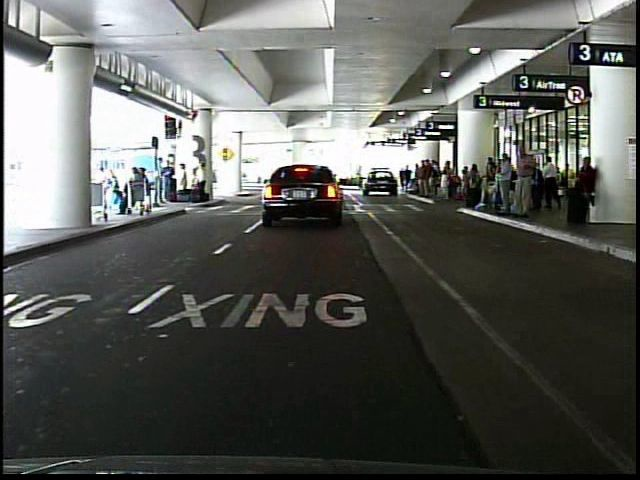person: (510, 138, 538, 224), (567, 150, 597, 228), (539, 153, 562, 212), (494, 150, 514, 216), (100, 157, 121, 214), (163, 155, 178, 203), (193, 158, 208, 201), (178, 161, 191, 202)
